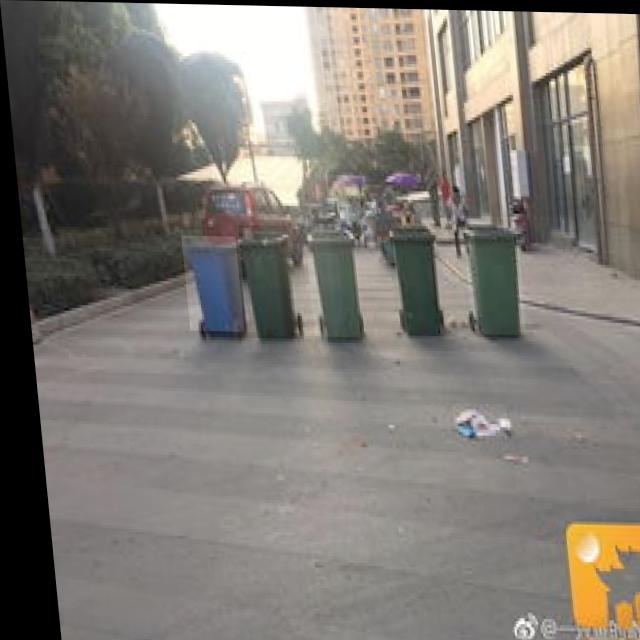garbage: (444, 401, 500, 434)
garbage_bin: (457, 214, 521, 333), (234, 224, 291, 338), (300, 222, 354, 336), (382, 218, 436, 331), (176, 235, 238, 331)
